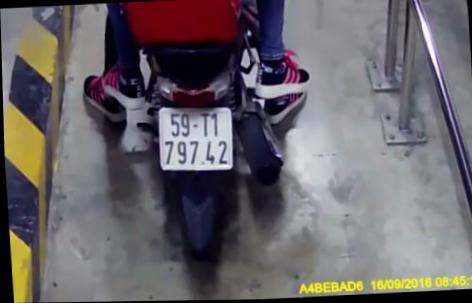LP: (152, 100, 235, 177)
